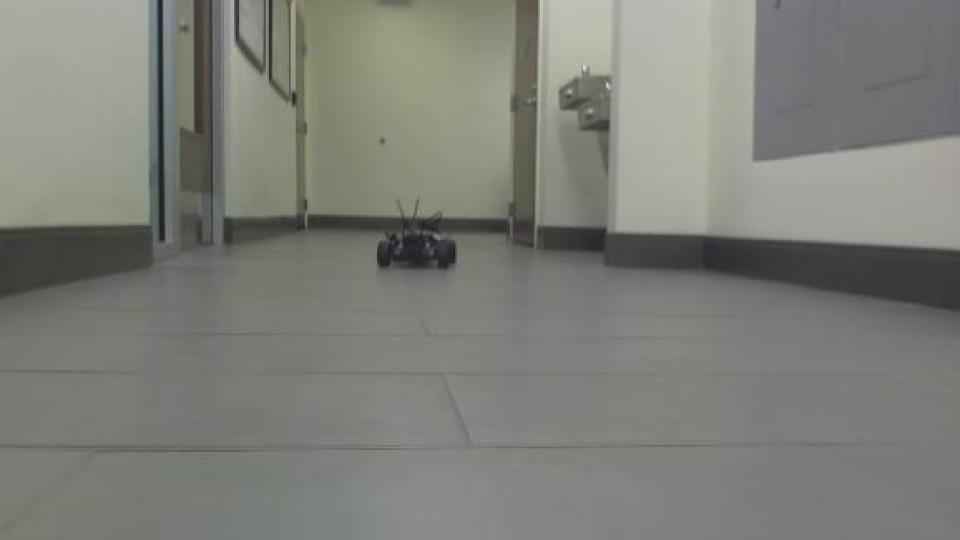car: (370, 195, 458, 273)
